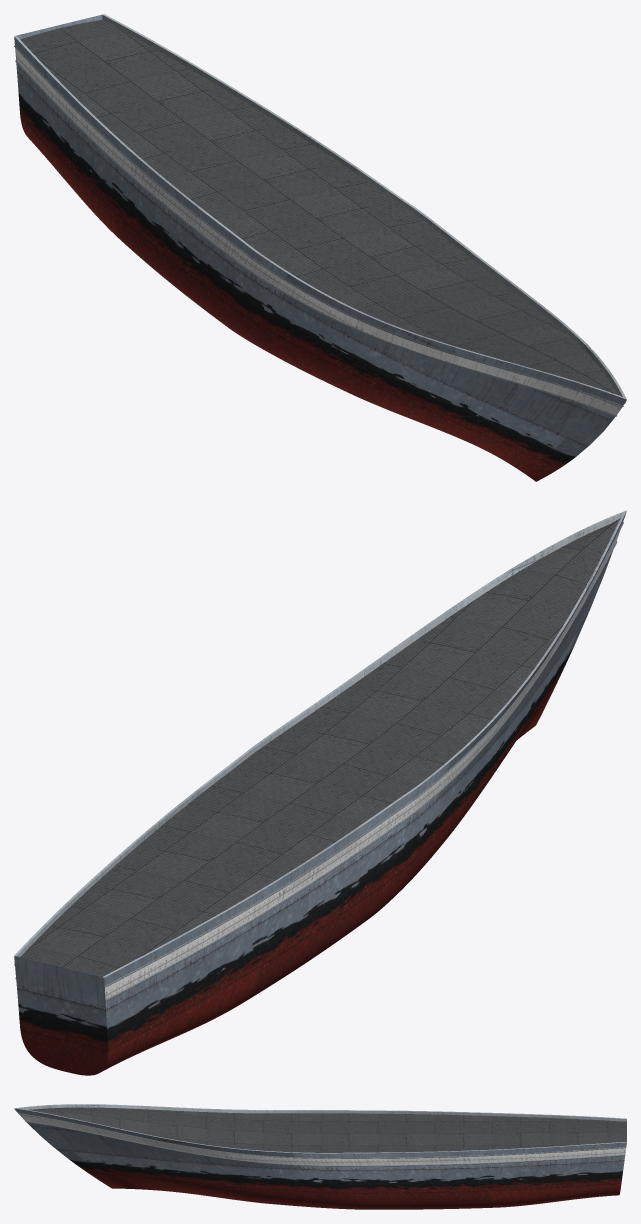
File: torpedo_hull.glb
3 views of the same model, one above another, from view 1: azimuth 30°, elevation 25°; view 2: azimuth 150°, elevation 25°; view 3: azimuth 270°, elevation 25° (orthographic). The views are drawn at different scales.
Visible parts, largest first — view 1: deck, hull, trim, team; view 2: deck, hull, trim, team; view 3: hull, deck, trim, team.
Boxes of the visible parts, left/top/right/bottom form: deck: left=20, top=19, right=617, bottom=394; hull: left=14, top=14, right=626, bottom=481; trim: left=14, top=14, right=626, bottom=416; team: left=15, top=48, right=622, bottom=415; deck: left=20, top=518, right=620, bottom=976; hull: left=14, top=511, right=626, bottom=1075; trim: left=14, top=510, right=626, bottom=1000; team: left=105, top=531, right=619, bottom=999; hull: left=14, top=1108, right=626, bottom=1209; deck: left=29, top=1107, right=626, bottom=1152; trim: left=15, top=1104, right=626, bottom=1166; team: left=19, top=1114, right=626, bottom=1165.
Size of the model in its own units: 3.62 by 3.45 by 21.4.
4 materials, 4 textured.
